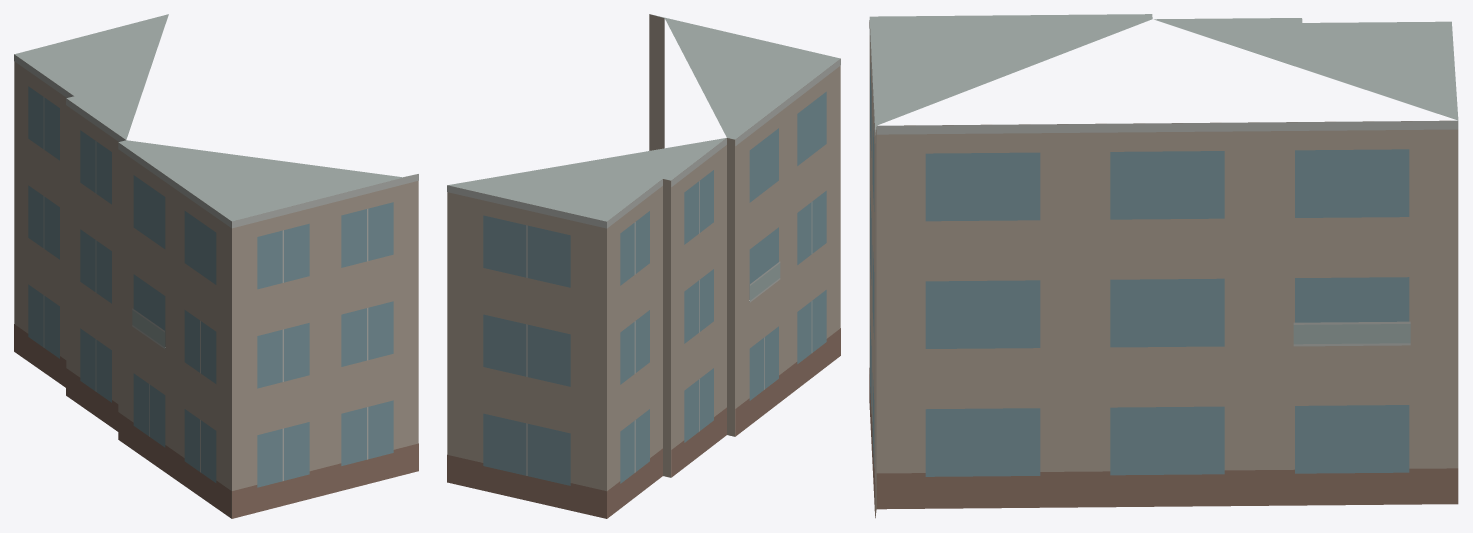
Rendered from survey-upis-32720504.glb.
3 views of the same model, side by side, from view 1: azimuth 30°, elevation 25°; view 2: azimuth 150°, elevation 25°; view 3: azimuth 270°, elevation 25° (orthographic). The views are drawn at different scales.
Visible parts, largest first — view 1: survey-upis-32720504.tmp; view 2: survey-upis-32720504.tmp; view 3: survey-upis-32720504.tmp.
Boxes of the visible parts, box(x1,y1,x2,y2) form: survey-upis-32720504.tmp: box(14, 14, 418, 518); survey-upis-32720504.tmp: box(447, 14, 840, 518); survey-upis-32720504.tmp: box(869, 14, 1458, 518).
Size of the model in its own units: 7.16 by 10.5 by 14.63.
